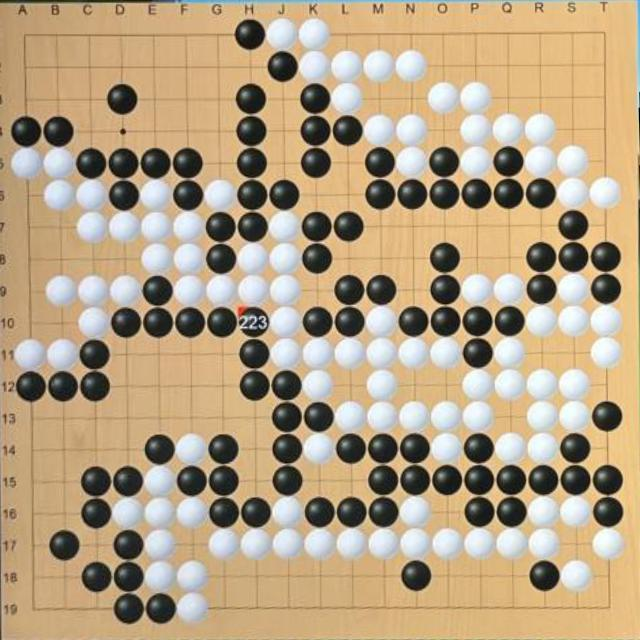blackstone: (592, 465, 624, 497), (11, 115, 43, 147), (234, 18, 266, 50), (235, 84, 268, 115), (400, 465, 432, 496), (496, 465, 528, 496), (142, 275, 174, 306), (237, 180, 269, 211), (79, 339, 111, 370), (144, 434, 176, 465), (560, 433, 591, 465), (81, 498, 112, 530), (108, 180, 140, 211), (108, 148, 140, 179), (558, 241, 590, 272), (590, 242, 621, 274), (591, 401, 623, 432), (44, 116, 76, 147), (107, 84, 139, 115), (113, 466, 144, 497), (302, 243, 333, 274), (81, 466, 112, 497), (430, 242, 461, 273), (76, 148, 107, 179), (267, 51, 298, 82), (146, 593, 177, 624), (401, 560, 432, 591), (272, 466, 304, 496), (368, 466, 400, 496), (302, 307, 334, 337), (208, 466, 240, 496), (239, 340, 271, 370), (368, 433, 398, 465), (464, 465, 496, 495), (173, 180, 205, 210), (114, 529, 144, 561), (526, 242, 558, 272), (236, 148, 268, 178), (300, 116, 332, 146), (114, 561, 144, 593), (140, 148, 172, 178), (236, 116, 268, 146), (591, 273, 621, 305), (558, 210, 590, 240), (300, 84, 332, 114), (238, 306, 268, 338), (272, 402, 302, 433), (304, 402, 335, 432), (272, 370, 302, 401), (335, 307, 366, 337), (177, 466, 208, 496), (431, 306, 462, 336), (206, 244, 237, 274), (432, 466, 463, 496), (400, 433, 430, 464), (209, 498, 240, 528), (305, 497, 336, 527), (464, 432, 494, 463), (334, 275, 365, 305), (241, 497, 271, 528), (111, 308, 142, 338), (207, 307, 238, 337), (206, 212, 237, 242), (430, 275, 461, 305), (528, 465, 559, 495), (366, 274, 396, 305), (463, 306, 494, 336), (208, 434, 239, 464), (465, 497, 496, 527), (270, 180, 301, 210), (497, 497, 528, 527), (526, 274, 557, 304), (561, 465, 592, 495), (365, 147, 395, 178), (365, 180, 396, 210), (334, 211, 364, 242), (429, 146, 460, 176), (301, 148, 332, 178), (173, 148, 204, 178), (593, 497, 623, 528), (81, 562, 112, 592), (16, 372, 47, 402), (50, 530, 80, 561), (529, 561, 560, 591), (272, 434, 302, 464), (336, 434, 366, 464), (495, 306, 525, 336), (463, 338, 493, 368), (337, 497, 367, 527), (369, 497, 399, 527), (302, 212, 332, 242), (238, 212, 268, 242), (398, 180, 428, 210), (144, 308, 174, 338), (430, 179, 460, 209), (462, 179, 492, 209), (494, 178, 524, 208), (526, 178, 556, 208), (48, 371, 78, 401), (80, 371, 110, 401), (494, 146, 524, 176), (114, 594, 144, 624), (398, 307, 429, 336), (240, 371, 270, 400), (175, 308, 205, 337), (333, 116, 363, 145)
whitestone: (461, 368, 495, 402), (46, 338, 80, 371), (140, 242, 173, 276), (75, 178, 108, 212), (268, 242, 302, 275), (42, 147, 76, 180), (588, 177, 622, 210), (298, 49, 332, 82), (427, 81, 461, 114), (494, 432, 528, 465), (527, 528, 561, 561), (14, 338, 47, 371), (524, 145, 557, 178), (331, 82, 364, 115), (558, 368, 591, 401), (237, 242, 270, 275), (494, 368, 527, 401), (240, 528, 273, 561), (208, 528, 241, 561), (431, 528, 464, 561), (108, 211, 142, 243), (10, 147, 44, 179), (526, 400, 560, 432), (557, 273, 591, 305), (143, 465, 177, 497), (176, 560, 210, 592), (527, 496, 561, 528), (76, 211, 109, 243), (43, 180, 76, 212), (140, 211, 173, 243), (77, 275, 110, 307), (109, 275, 142, 307), (174, 274, 206, 307), (395, 146, 428, 178), (590, 336, 622, 369), (173, 243, 206, 275), (459, 146, 492, 178), (173, 211, 206, 243), (556, 145, 589, 177), (525, 305, 558, 337), (590, 305, 622, 338), (204, 179, 237, 211), (205, 274, 238, 306), (557, 305, 590, 337), (302, 433, 335, 465), (524, 112, 557, 144), (493, 273, 526, 305), (268, 210, 301, 242), (139, 179, 172, 211), (461, 274, 494, 306), (429, 336, 462, 368), (331, 50, 363, 83), (526, 368, 558, 401), (558, 400, 591, 432), (462, 400, 494, 433), (395, 49, 427, 82), (526, 432, 559, 464), (270, 338, 303, 370), (366, 401, 399, 433), (176, 496, 209, 528), (494, 337, 527, 369), (559, 495, 591, 528), (112, 497, 145, 529), (272, 528, 305, 560), (265, 18, 298, 50), (144, 529, 176, 562), (304, 528, 337, 560), (592, 528, 624, 561), (399, 495, 432, 527), (463, 528, 496, 560), (399, 528, 431, 561), (496, 528, 529, 560), (177, 592, 210, 624), (459, 114, 493, 145), (45, 275, 77, 307), (78, 307, 110, 339), (557, 177, 589, 209), (363, 114, 395, 146), (238, 274, 270, 306), (396, 114, 428, 146), (175, 433, 207, 465), (492, 114, 524, 146), (270, 306, 302, 338), (363, 50, 395, 82), (460, 82, 492, 114), (430, 432, 462, 464), (302, 337, 334, 369), (144, 497, 176, 529), (365, 338, 397, 370), (334, 337, 366, 369), (398, 401, 430, 433), (368, 528, 400, 560), (298, 18, 330, 50), (560, 560, 592, 592), (269, 274, 302, 305), (144, 562, 177, 593), (334, 401, 367, 432), (272, 496, 305, 527), (337, 527, 368, 560), (302, 370, 334, 401), (366, 370, 398, 401), (430, 401, 462, 432), (398, 338, 429, 369), (365, 306, 397, 336)
